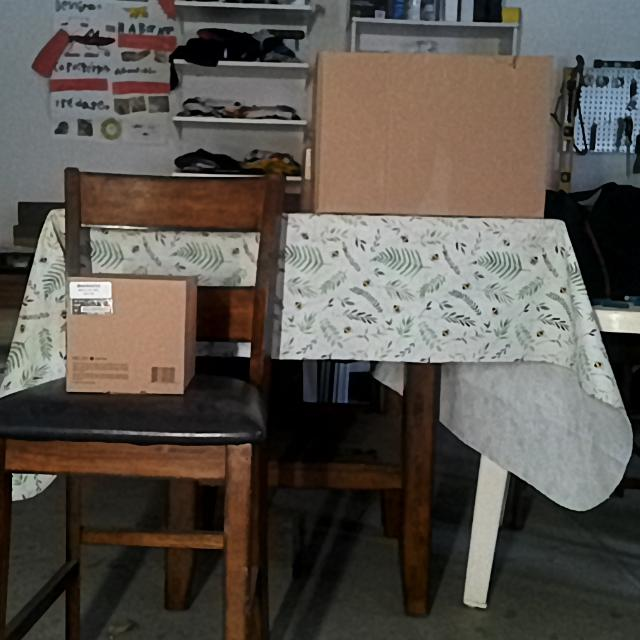box: (317, 51, 545, 218), (66, 281, 185, 391)
